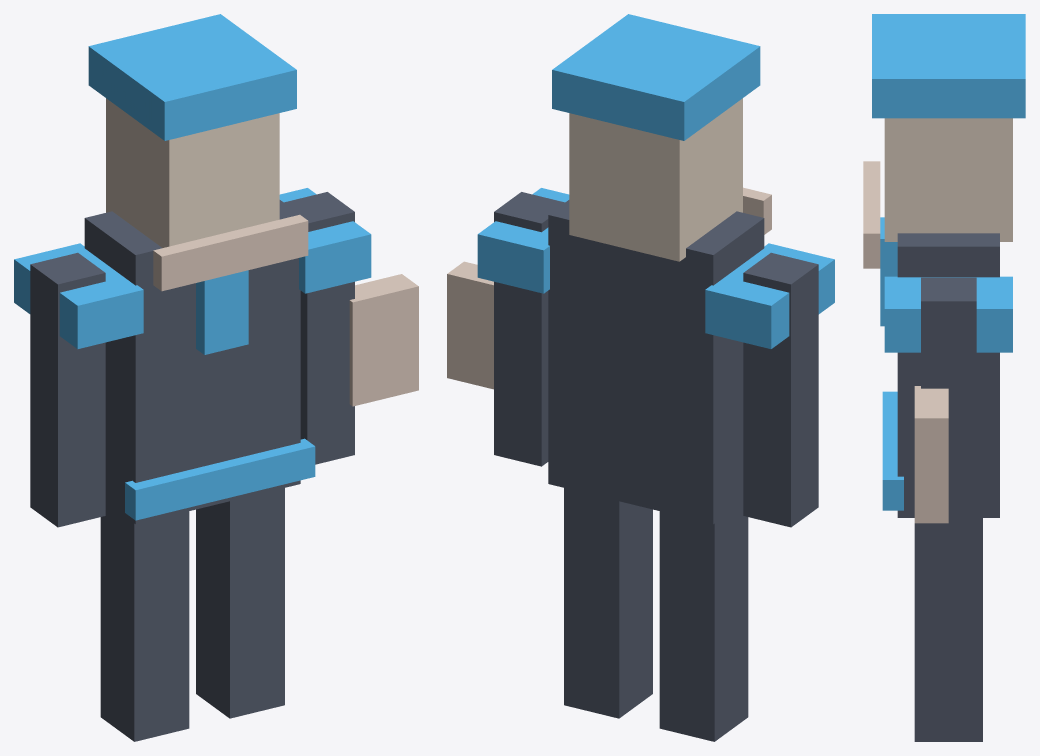
The model's file is 02_bex_runeclasp_broker_at_fuel.glb.
3 renders of one model, left to right at view 1: azimuth 30°, elevation 25°; view 2: azimuth 150°, elevation 25°; view 3: azimuth 270°, elevation 25°, orthographic.
Parts seen in each view (by area): view 1: Bex Runeclasp, Broker at Fuel; view 2: Bex Runeclasp, Broker at Fuel; view 3: Bex Runeclasp, Broker at Fuel.
Part boxes in pixels (x1=…): Bex Runeclasp, Broker at Fuel: x1=14, y1=14, x2=418, y2=741; Bex Runeclasp, Broker at Fuel: x1=447, y1=14, x2=834, y2=741; Bex Runeclasp, Broker at Fuel: x1=863, y1=14, x2=1025, y2=741.
Size of the model in its own units: 0.9276 by 1.62 by 0.3615.
